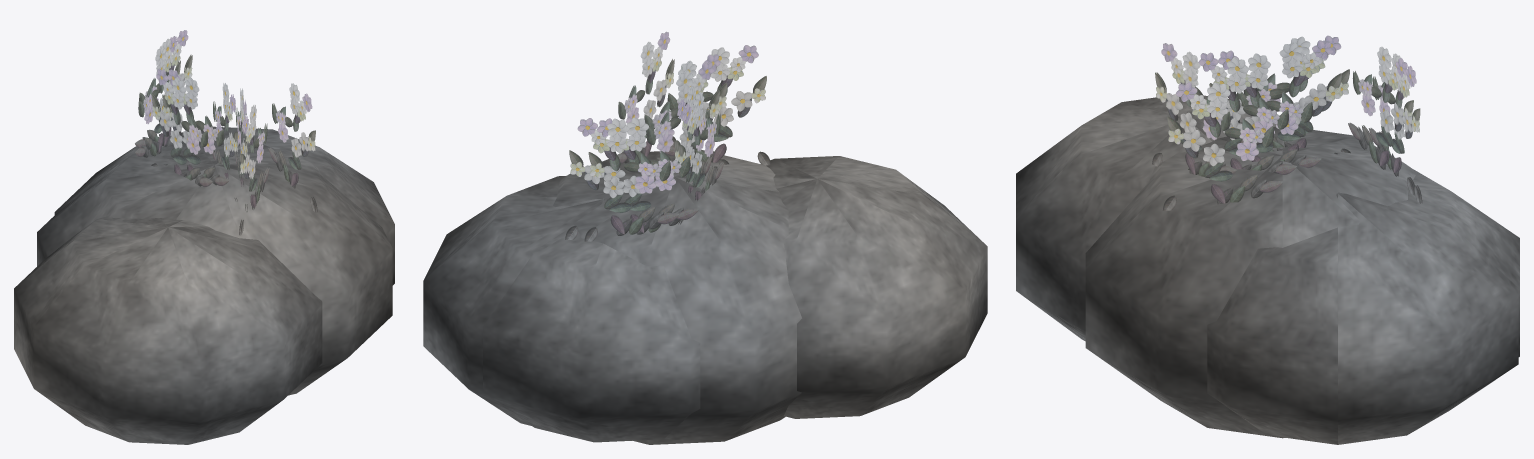
File: cushion_bloom_l0.gltf
3 views of the same model, side by side, from view 1: azimuth 30°, elevation 25°; view 2: azimuth 150°, elevation 25°; view 3: azimuth 270°, elevation 25° (orthographic). The views are drawn at different scales.
Parts seen in each view (by area): view 1: cushion_bloom_l0; view 2: cushion_bloom_l0; view 3: cushion_bloom_l0.
Boxes of the visible parts, box(x1,y1,x2,y2) form: cushion_bloom_l0: box(14, 30, 394, 444); cushion_bloom_l0: box(423, 31, 987, 444); cushion_bloom_l0: box(1016, 35, 1519, 444).
Bounding box in the file's own units: 1.1 × 0.8081 × 1.02.
1 material, 1 textured.
